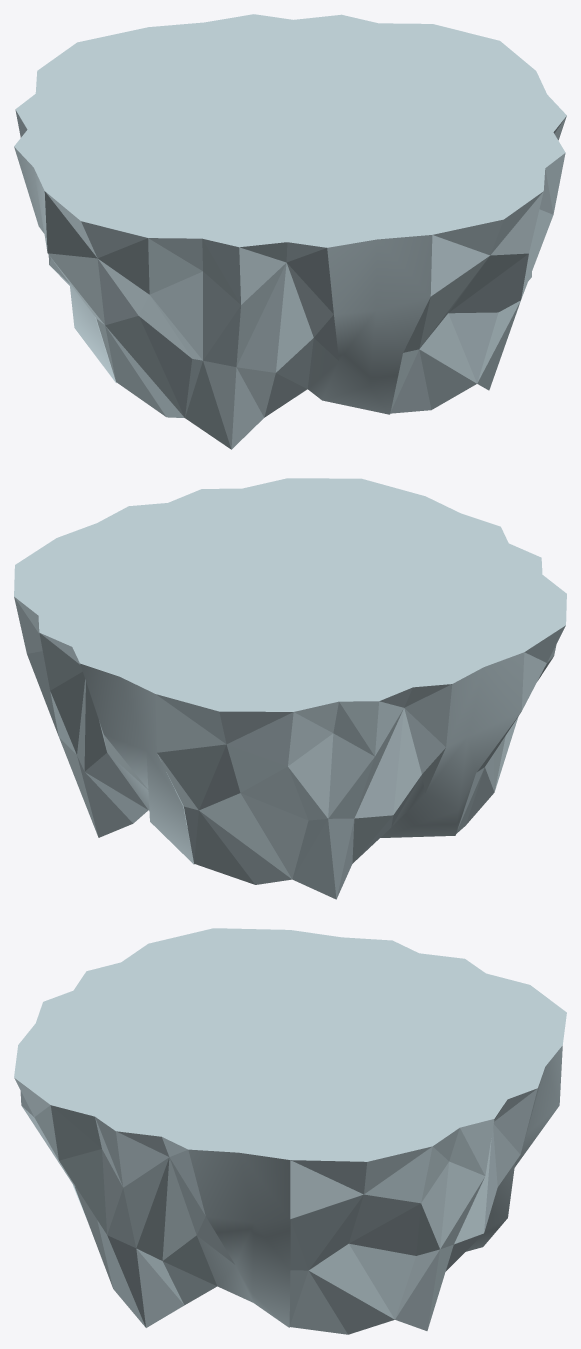
The model's file is Arena_w_Parts.fbx.
3 views of the same model, one above another, from view 1: azimuth 30°, elevation 25°; view 2: azimuth 150°, elevation 25°; view 3: azimuth 270°, elevation 25° (orthographic). The views are drawn at different scales.
Visible parts, largest first — view 1: polySurface5, polySurface4, polySurface12, polySurface14, polySurface7, polySurface2, polySurface10, polySurface13, polySurface17, polySurface3, polySurface1, polySurface15 (+1 smaller); view 2: polySurface5, polySurface3, polySurface13, polySurface10, polySurface1, polySurface15, polySurface14, polySurface12, polySurface17, polySurface4, polySurface2, polySurface9 (+1 smaller); view 3: polySurface5, polySurface17, polySurface2, polySurface1, polySurface9, polySurface12, polySurface15, polySurface14, polySurface13, polySurface3, polySurface4, polySurface7 (+1 smaller).
Part boxes in pixels (x1,y1,x2,y2): polySurface5: [124, 61, 456, 200]; polySurface4: [148, 195, 333, 449]; polySurface12: [376, 167, 543, 413]; polySurface14: [44, 167, 204, 417]; polySurface7: [288, 193, 432, 414]; polySurface2: [442, 115, 566, 390]; polySurface10: [14, 130, 142, 382]; polySurface13: [37, 27, 204, 94]; polySurface17: [376, 24, 535, 94]; polySurface3: [14, 71, 138, 285]; polySurface1: [254, 14, 431, 66]; polySurface15: [149, 14, 292, 68]; polySurface5: [125, 525, 456, 665]; polySurface3: [279, 650, 452, 899]; polySurface13: [155, 654, 311, 884]; polySurface10: [364, 629, 524, 837]; polySurface1: [14, 590, 170, 837]; polySurface15: [80, 626, 208, 864]; polySurface14: [431, 586, 566, 833]; polySurface12: [269, 478, 425, 535]; polySurface17: [14, 538, 149, 603]; polySurface4: [422, 527, 566, 790]; polySurface2: [129, 478, 301, 539]; polySurface9: [57, 506, 216, 560]; polySurface5: [127, 976, 453, 1114]; polySurface17: [285, 1106, 432, 1334]; polySurface2: [50, 1081, 217, 1327]; polySurface1: [376, 1078, 537, 1330]; polySurface9: [188, 1100, 307, 1327]; polySurface12: [14, 1043, 146, 1288]; polySurface15: [421, 1038, 562, 1251]; polySurface14: [148, 928, 294, 983]; polySurface13: [434, 985, 566, 1046]; polySurface3: [368, 940, 529, 1008]; polySurface4: [43, 944, 204, 1012]; polySurface7: [18, 1002, 159, 1217].
Bounding box in the file's own units: 194 × 90.29 × 194.
